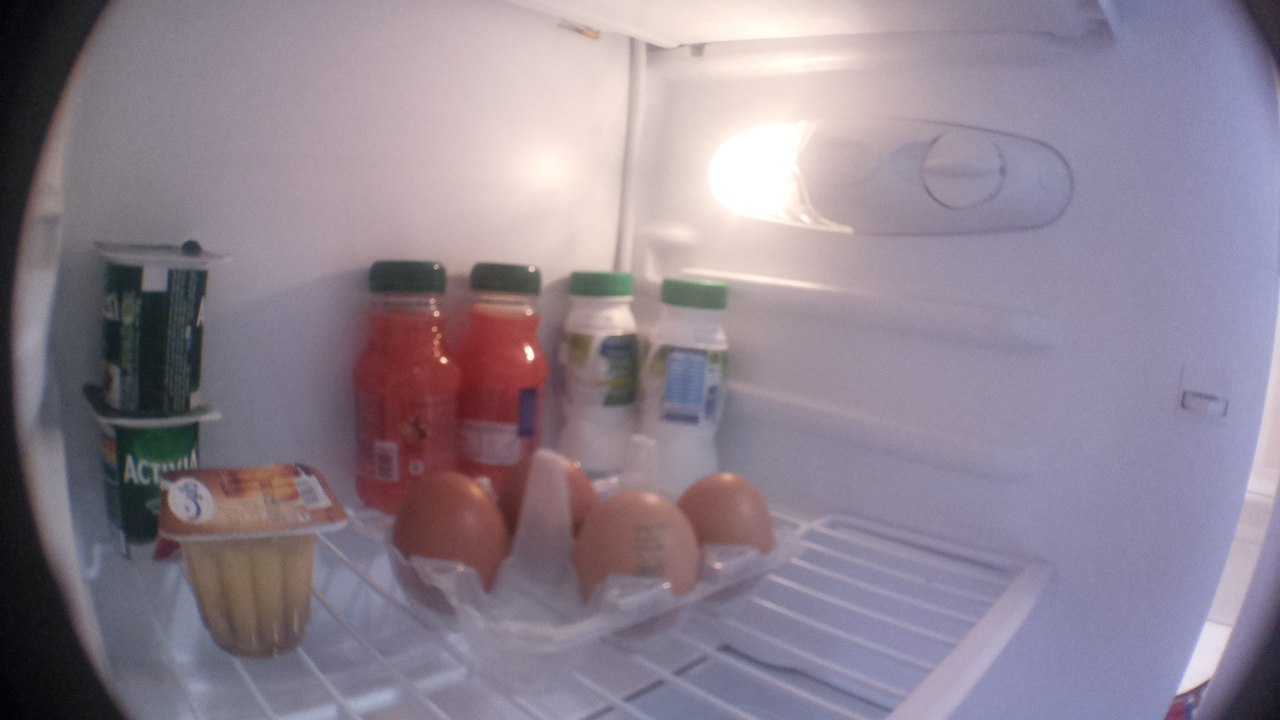caramel: (154, 446, 349, 673)
egg: (579, 485, 699, 642), (386, 470, 511, 618), (673, 467, 784, 604), (502, 452, 595, 555)
juice: (350, 254, 469, 514), (462, 256, 553, 506)
laban: (624, 262, 732, 497), (545, 257, 651, 481)
yoghurt: (70, 383, 224, 566), (86, 226, 238, 410)
